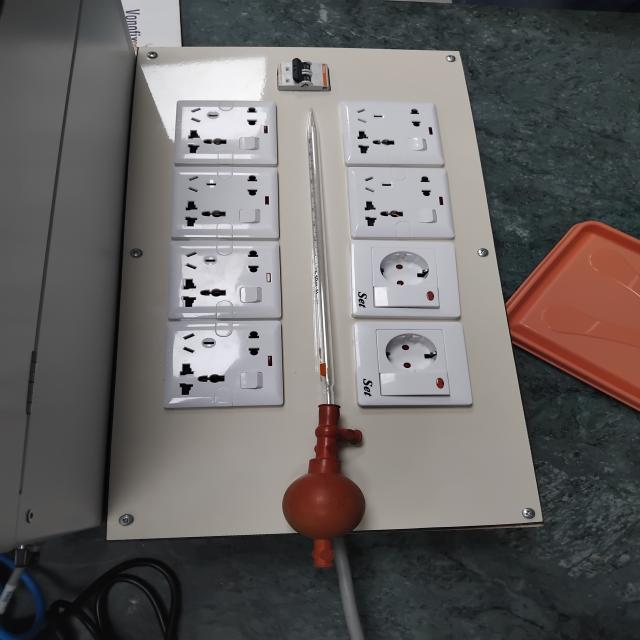Volumetric_Pipet: (267, 94, 402, 599)
